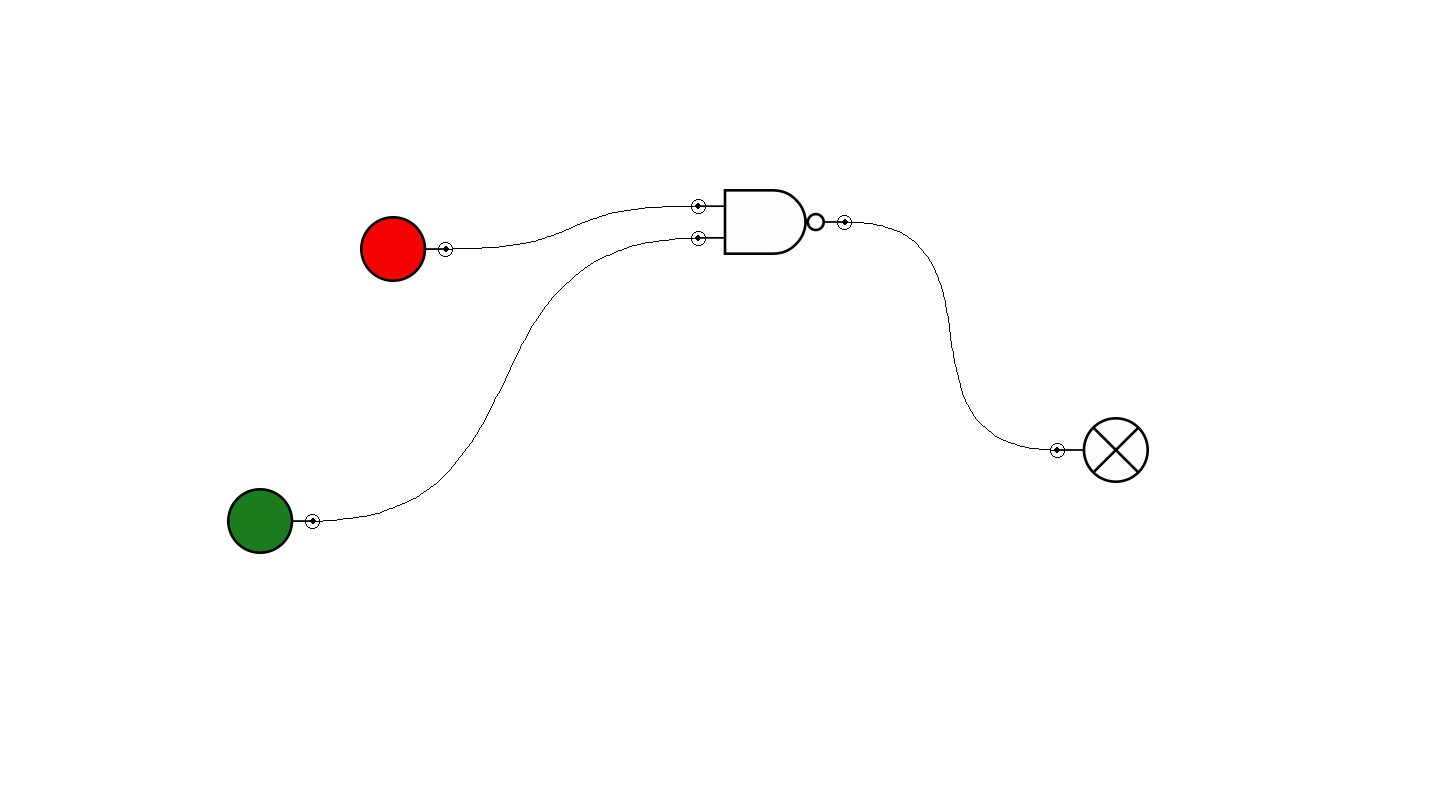bulb: (1050, 417, 1149, 483)
nand: (691, 189, 852, 255)
switch_False: (360, 216, 453, 282)
switch_True: (227, 488, 320, 554)
